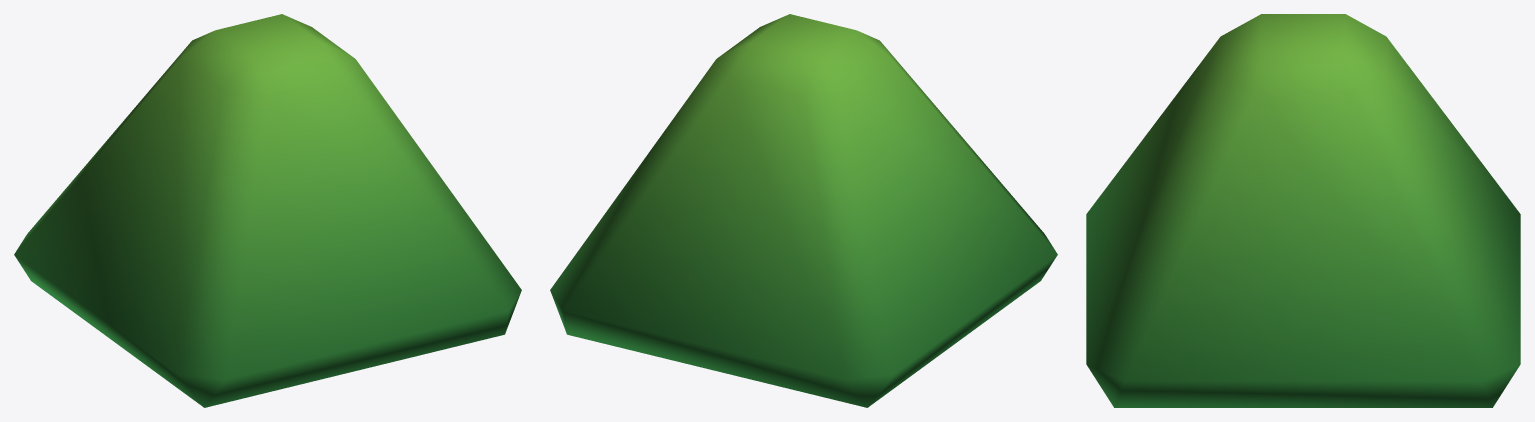
The model's file is Bush_4_A_Color1.glb.
The picture shows the model from 3 angles, left to right: view 1: azimuth 30°, elevation 25°; view 2: azimuth 150°, elevation 25°; view 3: azimuth 270°, elevation 25°; orthographic projection. The views are drawn at different scales.
Visible parts, largest first — view 1: Bush_4_A_Color1; view 2: Bush_4_A_Color1; view 3: Bush_4_A_Color1.
Boxes of the visible parts, x1,y1,x2,y2 form: Bush_4_A_Color1: (14, 14, 521, 407); Bush_4_A_Color1: (550, 14, 1057, 407); Bush_4_A_Color1: (1086, 14, 1520, 407).
Size of the model in its own units: 0.5768 by 0.4344 by 0.5768.
1 material, 1 textured.
